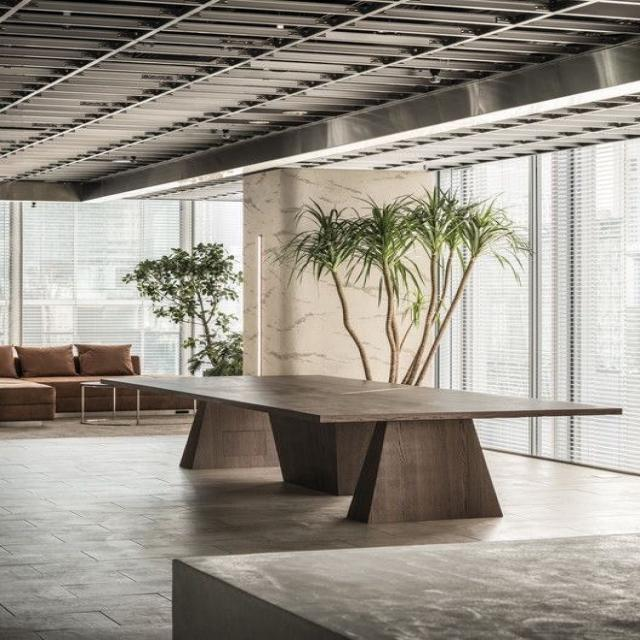table: (78, 284, 623, 564)
